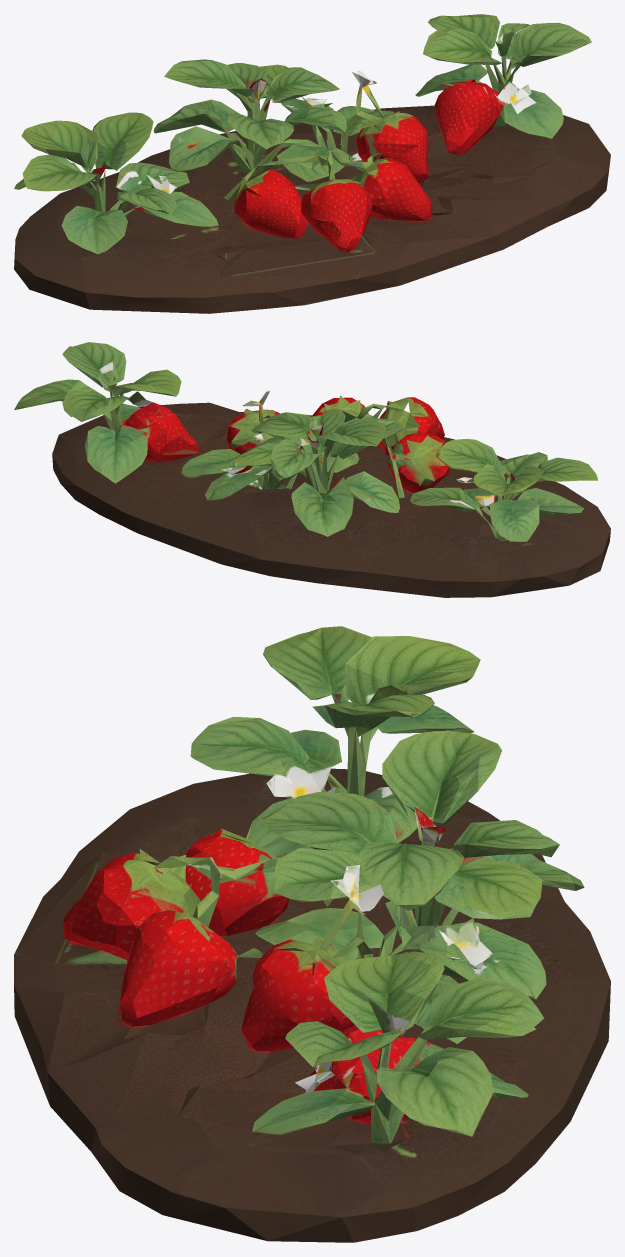
File: strawberries.glb
3 renders of one model, top to bottom at view 1: azimuth 30°, elevation 25°; view 2: azimuth 150°, elevation 25°; view 3: azimuth 270°, elevation 25°, orthographic. The views are drawn at different scales.
Visible parts, largest first — view 1: geometry_0; view 2: geometry_0; view 3: geometry_0.
Boxes of the visible parts, x1,y1,x2,y2 form: geometry_0: [14, 14, 610, 313]; geometry_0: [14, 342, 610, 597]; geometry_0: [14, 626, 610, 1242].
Bounding box in the file's own units: 2.37 × 0.5195 × 1.3.
1 material, 1 textured.
